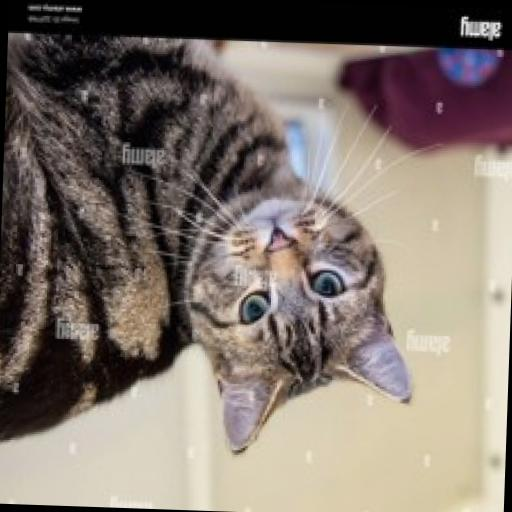cat: (0, 31, 449, 468)
